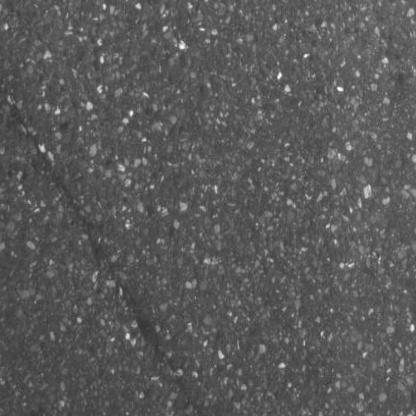Cracks: (0, 43, 218, 416)
